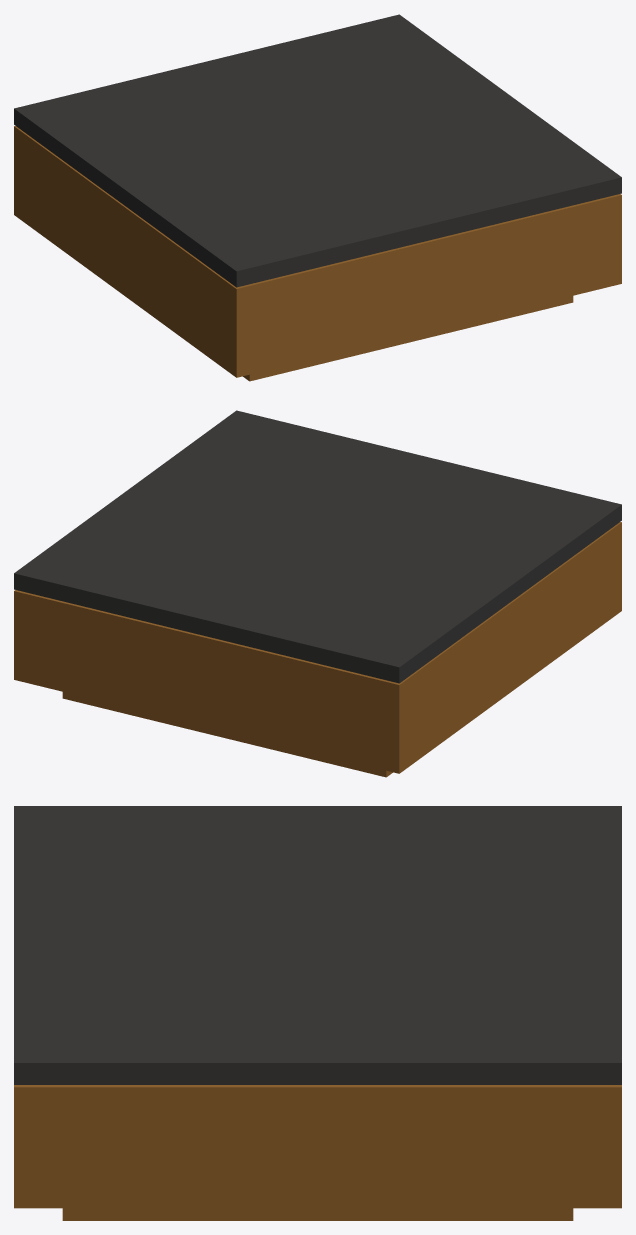
File: boxtable.glb
The picture shows the model from 3 angles, top to bottom: view 1: azimuth 30°, elevation 25°; view 2: azimuth 150°, elevation 25°; view 3: azimuth 270°, elevation 25°; orthographic projection. The views are drawn at different scales.
Visible parts, largest first — view 1: Top, Box, Foot; view 2: Top, Box, Foot; view 3: Top, Box, Foot.
Part boxes in pixels (x1,y1,x2,y2): Top: [14, 14, 621, 287]; Box: [14, 126, 621, 377]; Foot: [243, 296, 573, 381]; Top: [14, 410, 621, 683]; Box: [14, 522, 621, 773]; Foot: [62, 692, 392, 777]; Top: [14, 806, 621, 1084]; Box: [14, 1085, 621, 1208]; Foot: [62, 1208, 573, 1220].
Size of the model in its own units: 1.27 by 0.4115 by 1.27.
